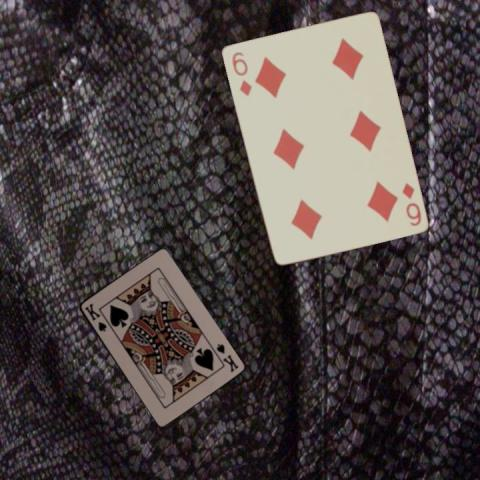6d: (228, 49, 253, 97), (398, 180, 422, 228)
Ks: (81, 300, 108, 333), (213, 341, 239, 374)
